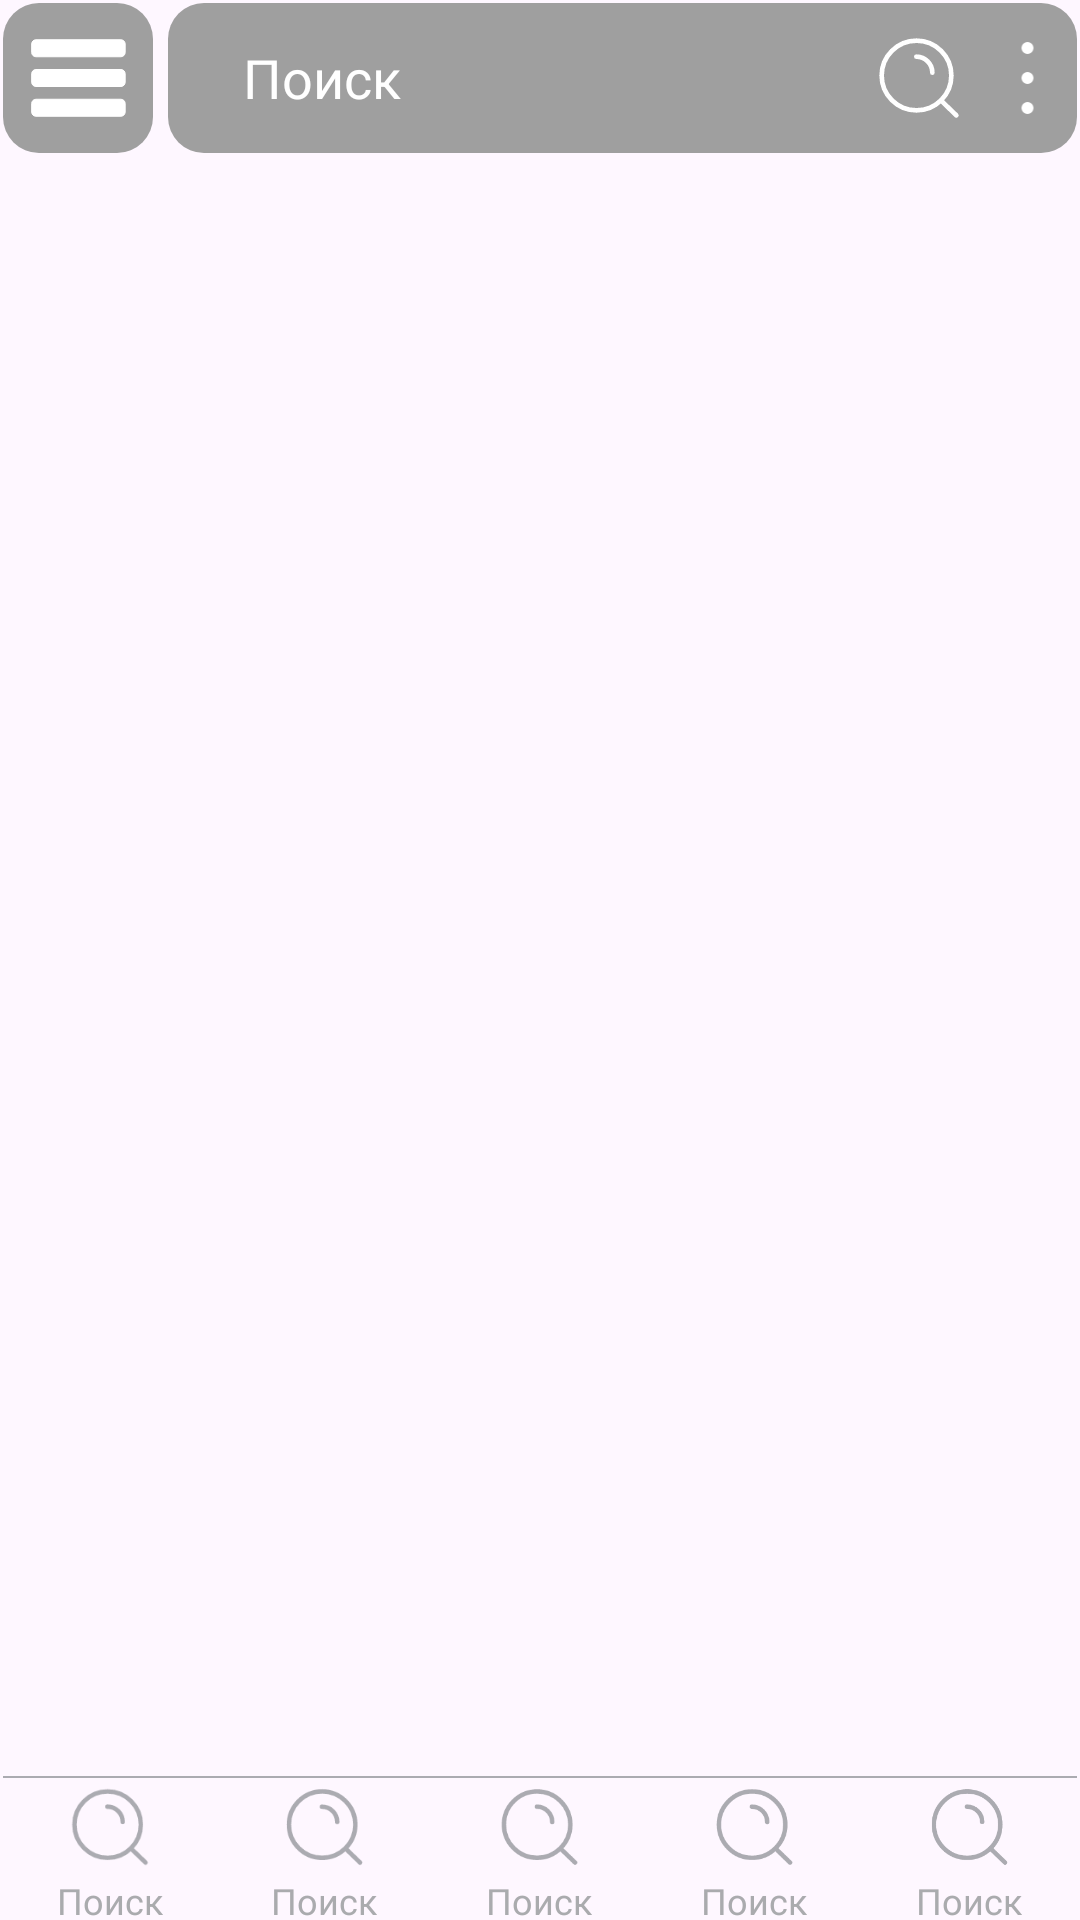

Where to tap for icons on this 1080 x 1920 app screen, as (x,y):
open drawer: (78,78)
